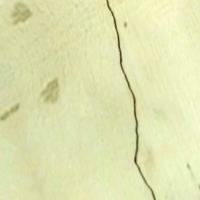crack: (88, 0, 165, 198)
